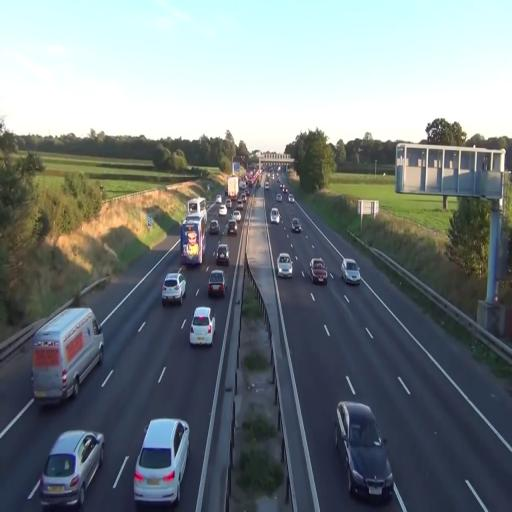vehicle: (32, 304, 104, 406), (336, 399, 394, 501), (133, 417, 191, 507), (39, 430, 105, 508), (180, 204, 206, 268), (189, 306, 215, 346), (161, 273, 186, 307), (207, 269, 226, 298), (341, 257, 361, 284), (309, 258, 328, 284), (277, 251, 293, 278), (214, 243, 230, 268), (206, 220, 220, 238), (227, 216, 237, 235), (270, 206, 280, 224), (292, 218, 301, 234)
